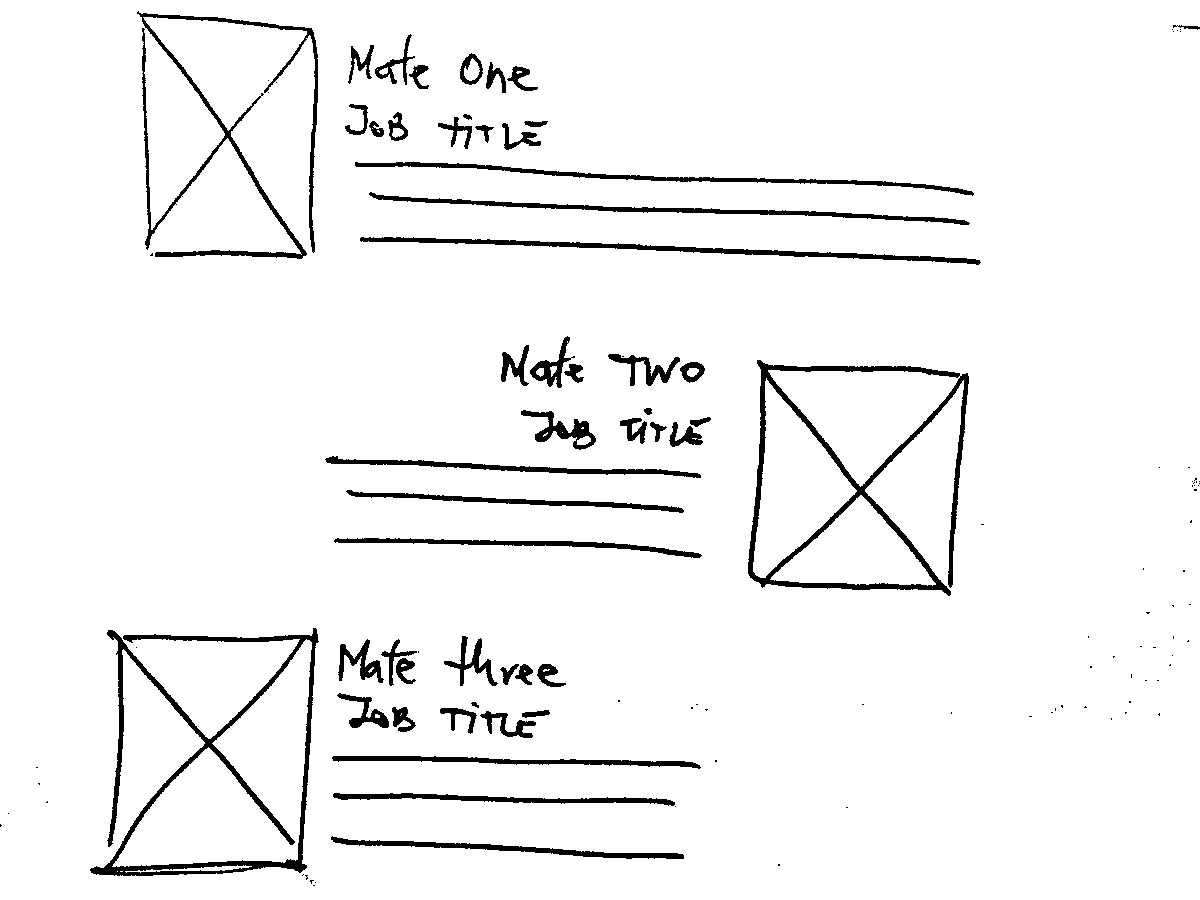Heading: (433, 700, 555, 742), (435, 110, 551, 151), (614, 407, 714, 450)
Image: (86, 622, 323, 882), (745, 350, 973, 598), (135, 4, 323, 264)
Paragraph: (349, 153, 986, 275), (324, 744, 705, 866), (319, 450, 710, 562)
